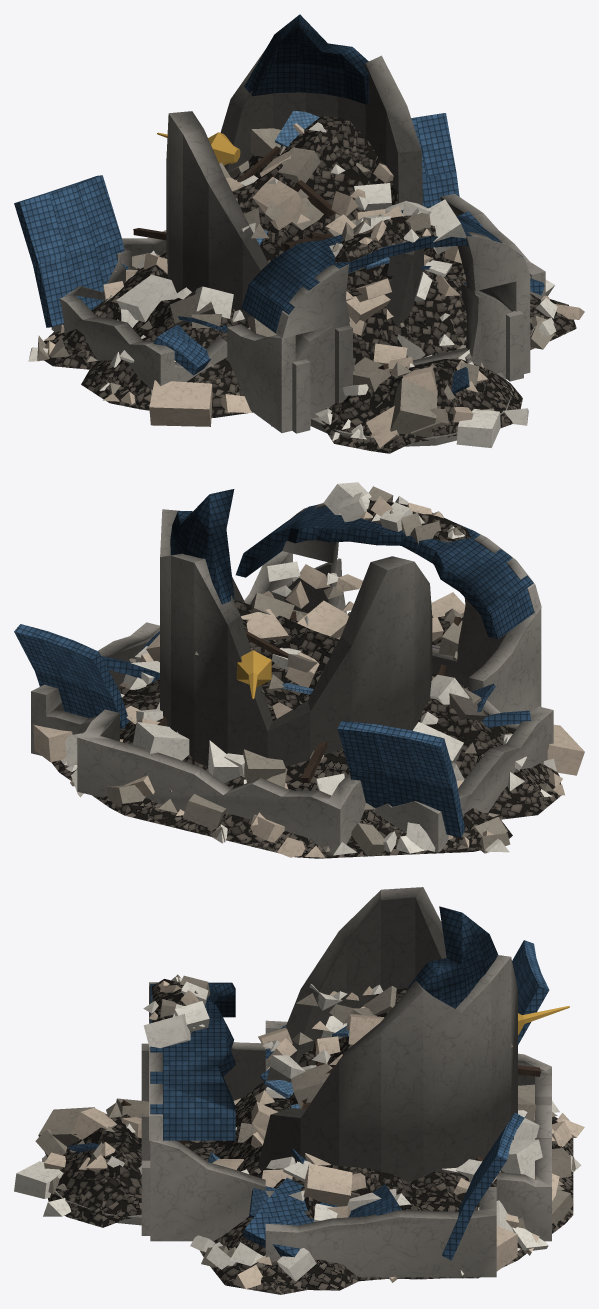
Rendered from CreBuild03b.glb.
The picture shows the model from 3 angles, top to bottom: view 1: azimuth 30°, elevation 25°; view 2: azimuth 150°, elevation 25°; view 3: azimuth 270°, elevation 25°; orthographic projection. The views are drawn at different scales.
Visible parts, largest first — view 1: marble; view 2: marble; view 3: marble.
Part boxes in pixels (left/top/right/bottom): marble: left=14, top=14, right=584, bottom=453; marble: left=14, top=482, right=584, bottom=858; marble: left=14, top=887, right=584, bottom=1294.
Size of the model in its own units: 13.15 by 7.74 by 13.36.
6 materials, 4 textured.
